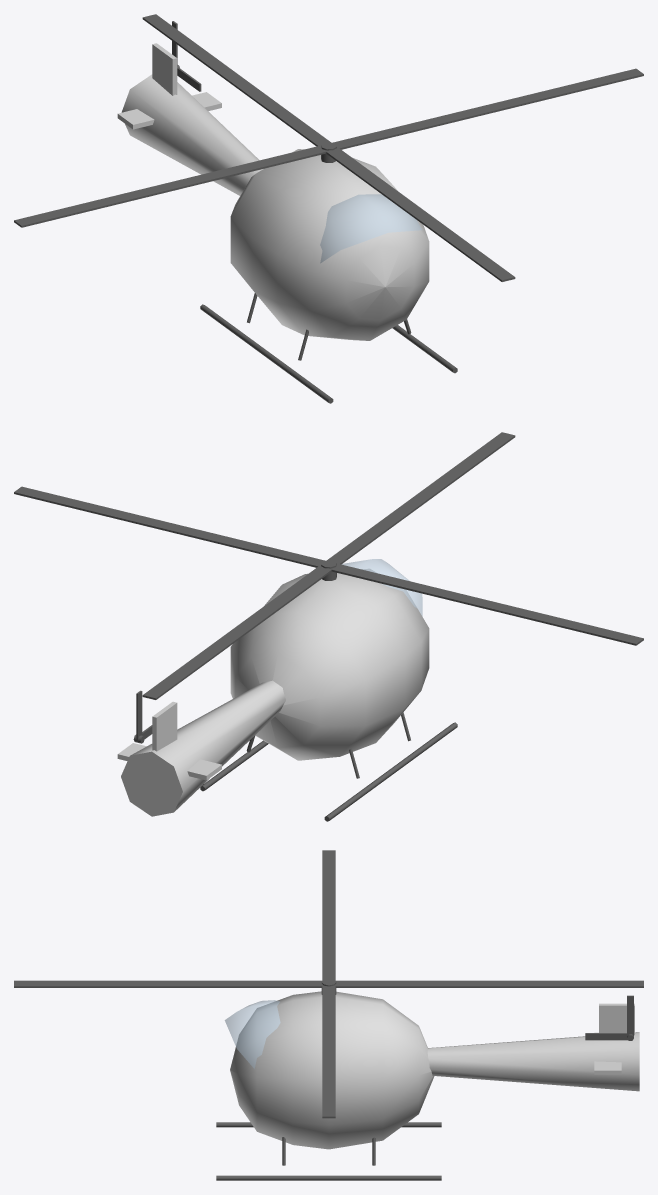
Rendered from helicopter.glb.
3 renders of one model, top to bottom at view 1: azimuth 30°, elevation 25°; view 2: azimuth 150°, elevation 25°; view 3: azimuth 270°, elevation 25°, orthographic. The views are drawn at different scales.
Parts seen in each view (by area): view 1: helicopter, rotor_blade_2, rotor_blade_0, rotor_blade_3, rotor_blade_1; view 2: helicopter, rotor_blade_2, rotor_blade_0, rotor_blade_1, rotor_blade_3; view 3: helicopter, rotor_blade_3, rotor_blade_1, rotor_blade_0, rotor_blade_2.
Boxes of the visible parts, left/top/right/bottom form: helicopter: left=117, top=21, right=457, bottom=403; rotor_blade_2: left=14, top=146, right=330, bottom=227; rotor_blade_0: left=332, top=68, right=643, bottom=149; rotor_blade_3: left=323, top=148, right=515, bottom=281; rotor_blade_1: left=142, top=14, right=330, bottom=147; helicopter: left=117, top=559, right=457, bottom=821; rotor_blade_2: left=327, top=564, right=643, bottom=645; rotor_blade_0: left=14, top=486, right=325, bottom=567; rotor_blade_1: left=142, top=566, right=334, bottom=699; rotor_blade_3: left=327, top=432, right=515, bottom=565; helicopter: left=216, top=991, right=639, bottom=1180; rotor_blade_3: left=14, top=980, right=323, bottom=987; rotor_blade_1: left=335, top=980, right=643, bottom=987; rotor_blade_0: left=322, top=984, right=335, bottom=1118; rotor_blade_2: left=322, top=850, right=335, bottom=980.
Size of the model in its own units: 7 by 2.11 by 7.
